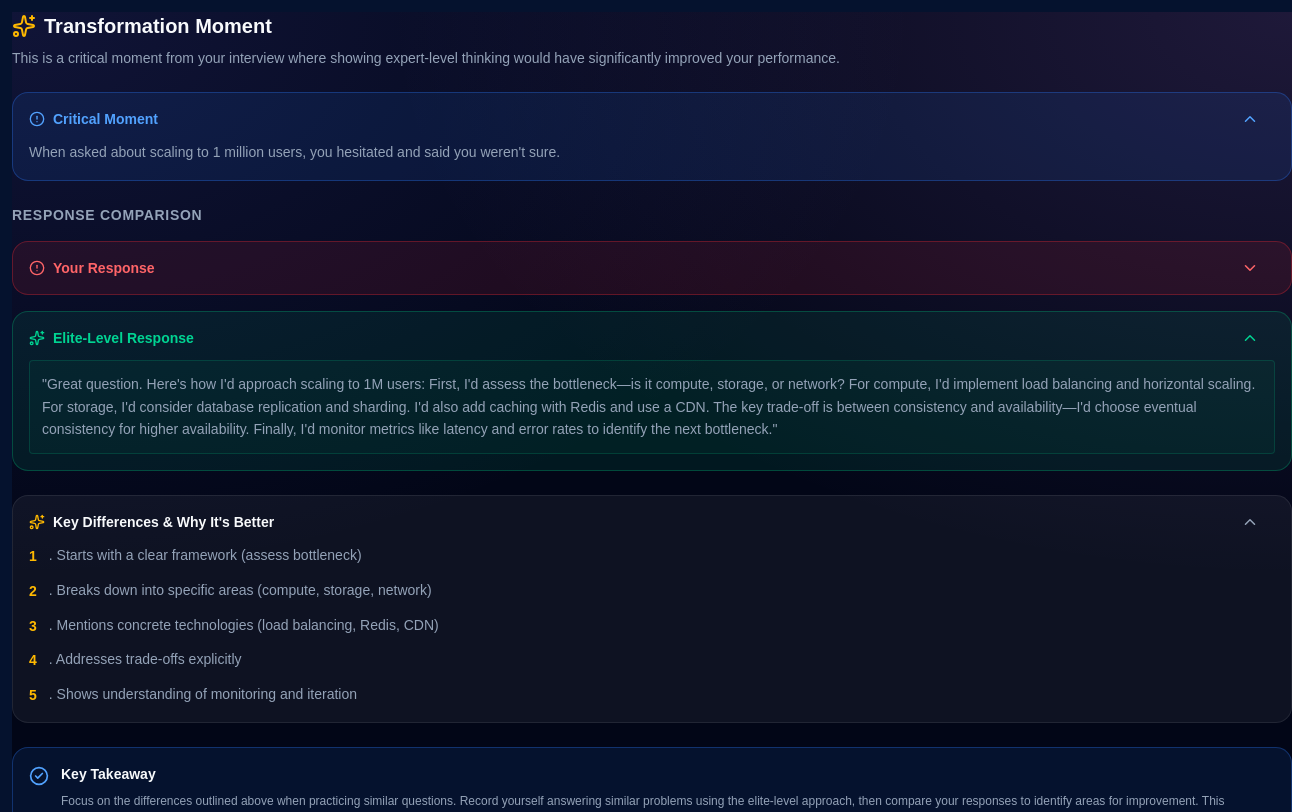
Test: TransformationMomentsTab › expands to show your response
This screenshot has width=1292, height=812.
Click the button "Your Response" at (104, 268), box [21, 250, 1267, 286]
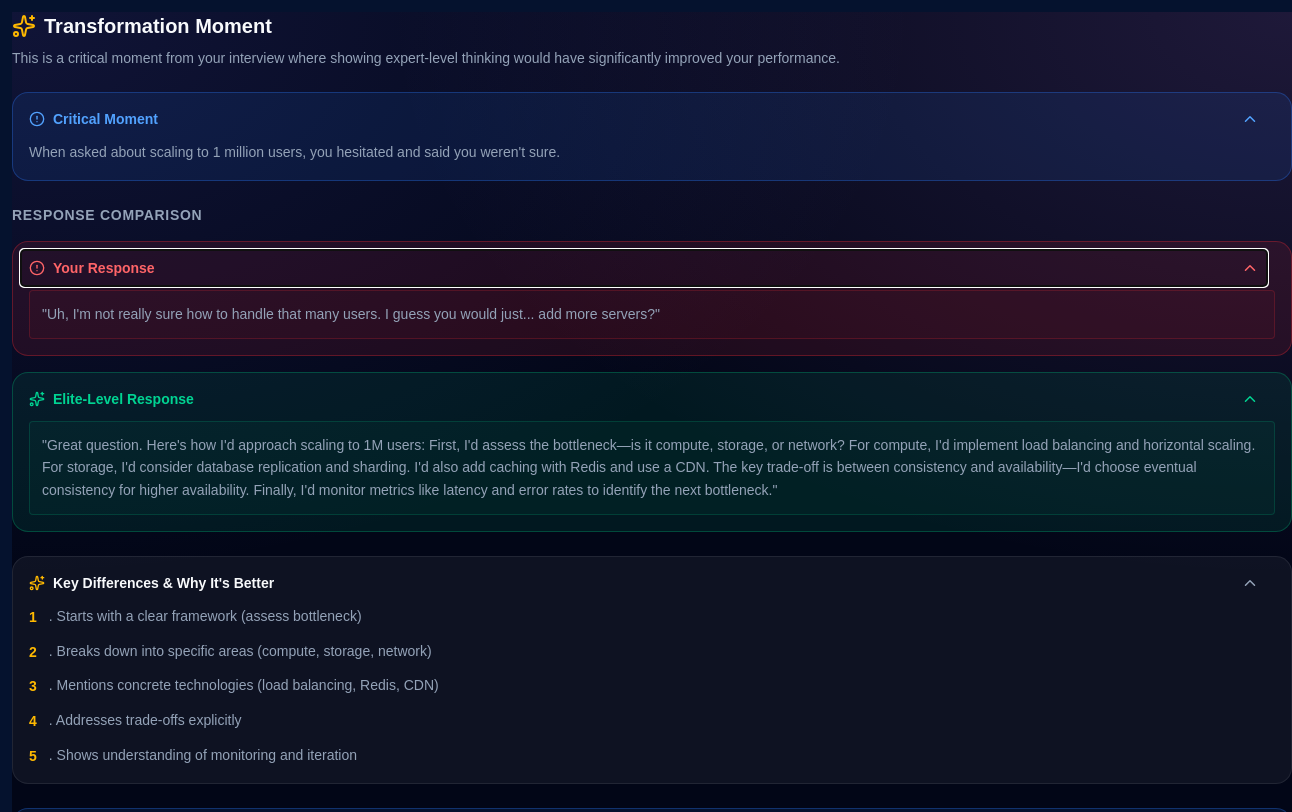
Now the text "add more servers" is shown, box [47, 306, 655, 322]
